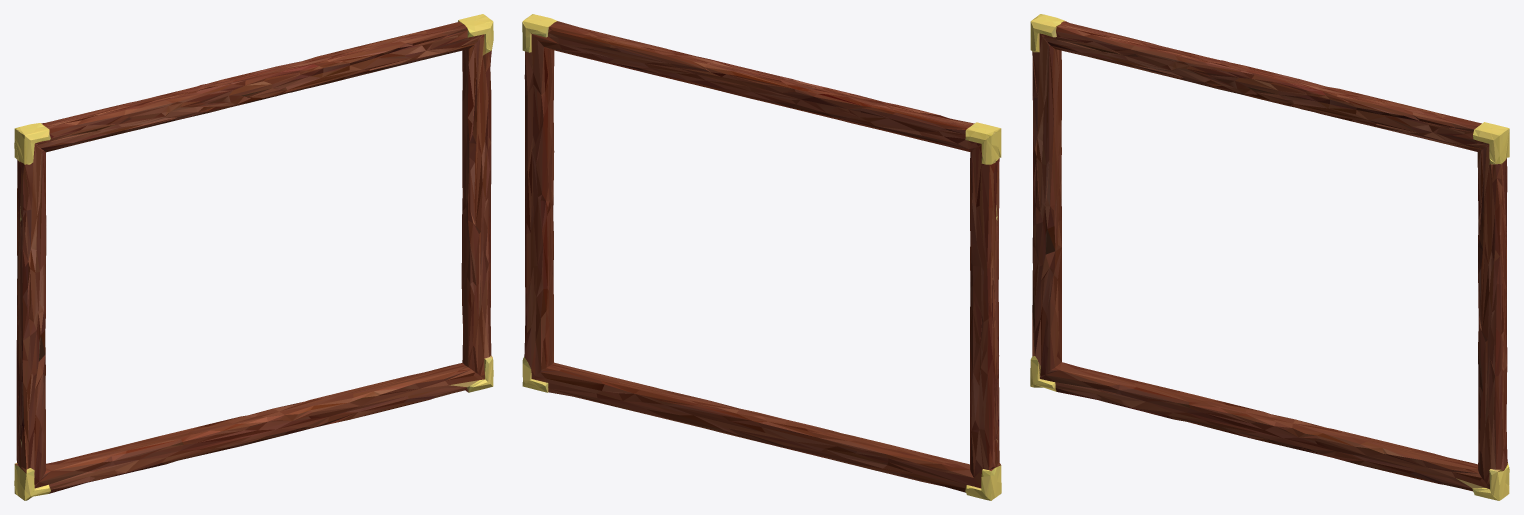
The model's file is frame.glb.
The picture shows the model from 3 angles, left to right: view 1: azimuth 30°, elevation 25°; view 2: azimuth 150°, elevation 25°; view 3: azimuth 330°, elevation 25°; orthographic projection.
Visible parts, largest first — view 1: geometry_0; view 2: geometry_0; view 3: geometry_0.
Boxes of the visible parts, left/top/right/bottom form: geometry_0: left=14, top=14, right=493, bottom=500; geometry_0: left=522, top=14, right=1001, bottom=500; geometry_0: left=1030, top=14, right=1509, bottom=500.
Size of the model in its own units: 0.9 by 0.672 by 0.045.
1 material, 1 textured.
